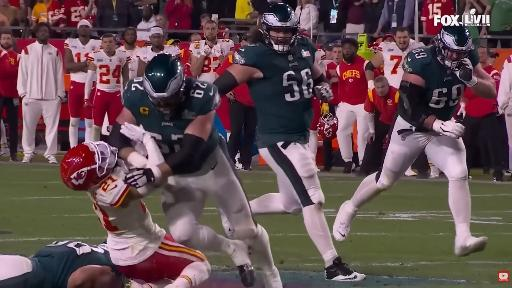Helmet: (60, 142, 117, 190), (143, 54, 185, 113), (262, 3, 299, 53), (436, 26, 473, 70), (318, 114, 338, 140)
Jersey: (234, 36, 317, 148), (88, 161, 165, 265), (123, 78, 220, 157), (403, 47, 466, 121), (33, 241, 117, 287), (378, 42, 419, 87), (88, 50, 129, 92), (64, 39, 101, 62), (118, 46, 140, 79), (136, 46, 180, 62), (198, 53, 220, 82), (315, 50, 326, 74)
Player: (214, 4, 365, 281), (334, 26, 496, 256), (110, 54, 271, 285), (61, 142, 210, 287), (0, 241, 123, 287), (64, 20, 101, 147), (85, 34, 129, 140), (365, 28, 422, 89), (190, 20, 234, 82), (136, 27, 181, 76), (308, 98, 327, 160), (118, 27, 140, 79)
